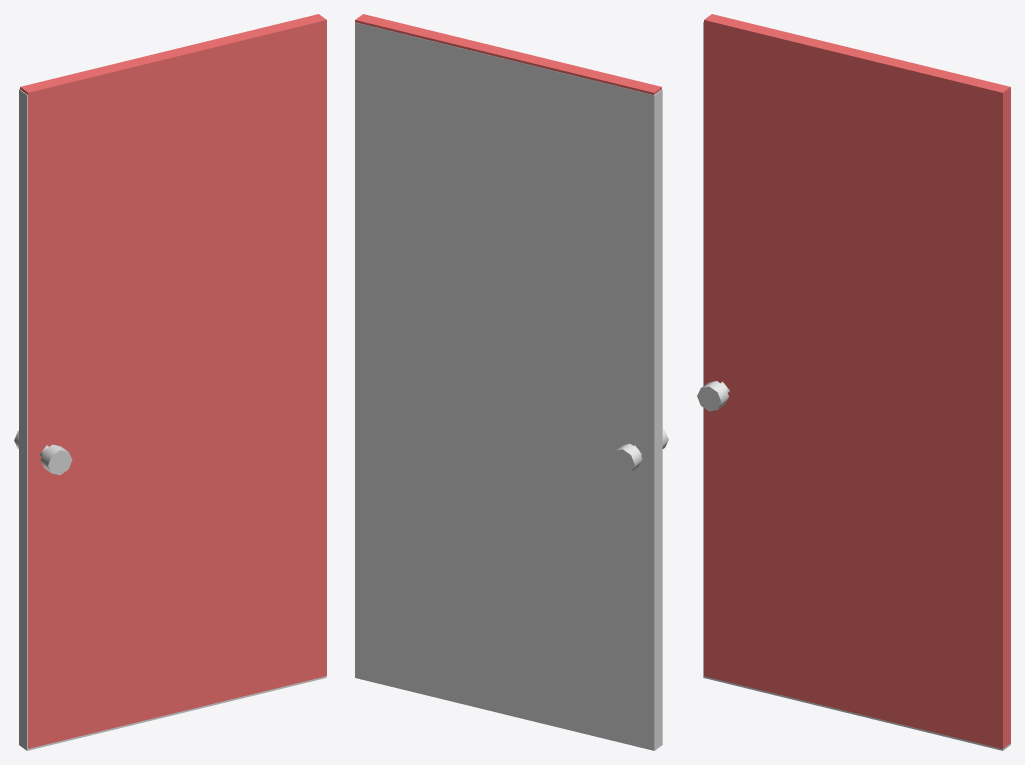
Rendered from prop_door_01.glb.
The picture shows the model from 3 angles, left to right: view 1: azimuth 30°, elevation 25°; view 2: azimuth 150°, elevation 25°; view 3: azimuth 330°, elevation 25°; orthographic projection.
Visible parts, largest first — view 1: brush_box.001, prop_door_01; view 2: prop_door_01, brush_box.001; view 3: brush_box.001, prop_door_01.
Part boxes in pixels (<box>): brush_box.001: <box>20,14,326,748</box>; prop_door_01: <box>14,89,326,750</box>; prop_door_01: <box>355,22,668,750</box>; brush_box.001: <box>355,14,661,94</box>; brush_box.001: <box>704,14,1010,748</box>; prop_door_01: <box>697,22,1010,750</box>.
Bounding box in the file's own units: 1.09 × 2.29 × 0.2148.
